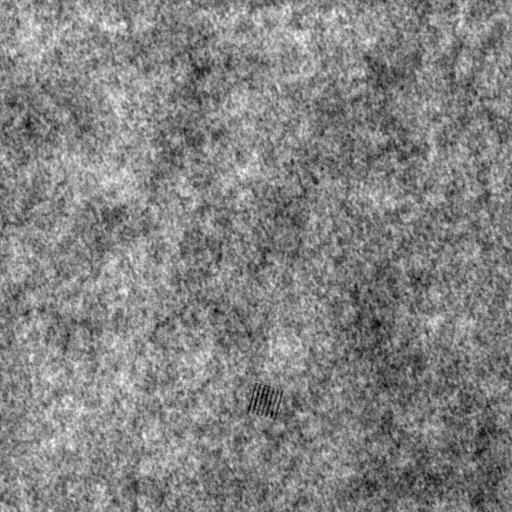DefectTypeB: (245, 380, 285, 419)
